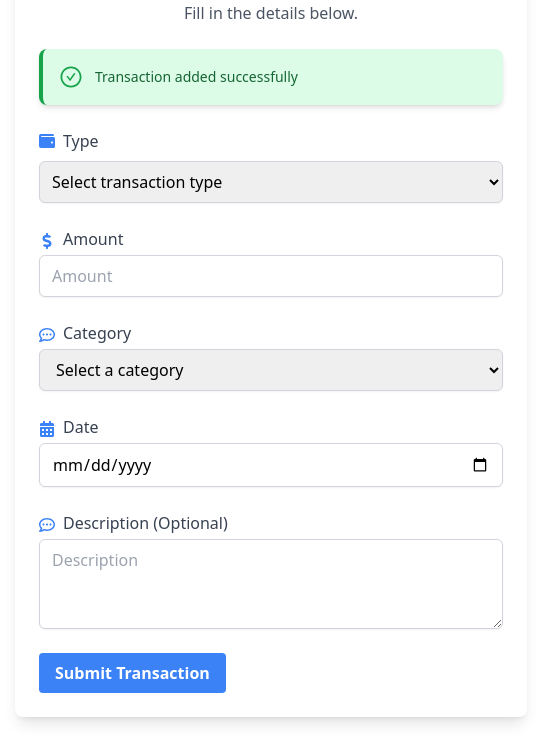
Test case: TransactionForm Component › validates form inputs
(page scrolled)
// Submit form without filling required fields
Click the button "Submit Transaction" at point(132, 673), box [39,653,226,693]
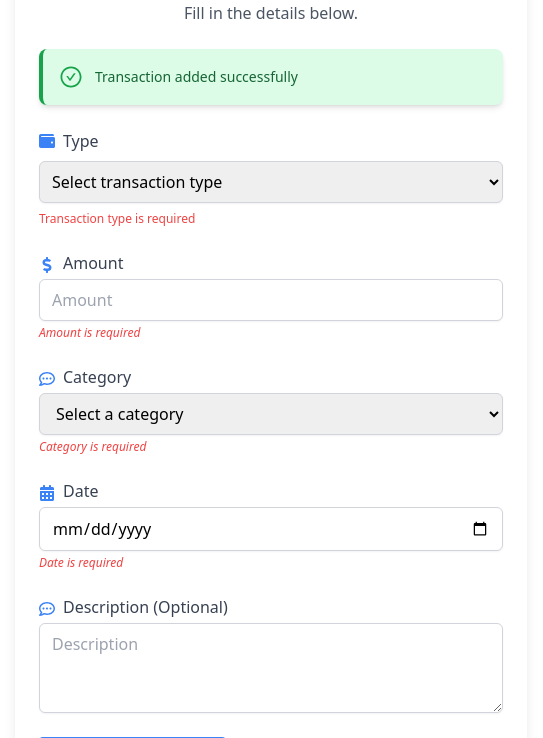
Now the text "Transaction type is required" is shown, box [39,210,195,227]
Now the text "Amount is required" is shown, box [39,324,140,341]
Now the text "Category is required" is shown, box [39,438,146,455]
